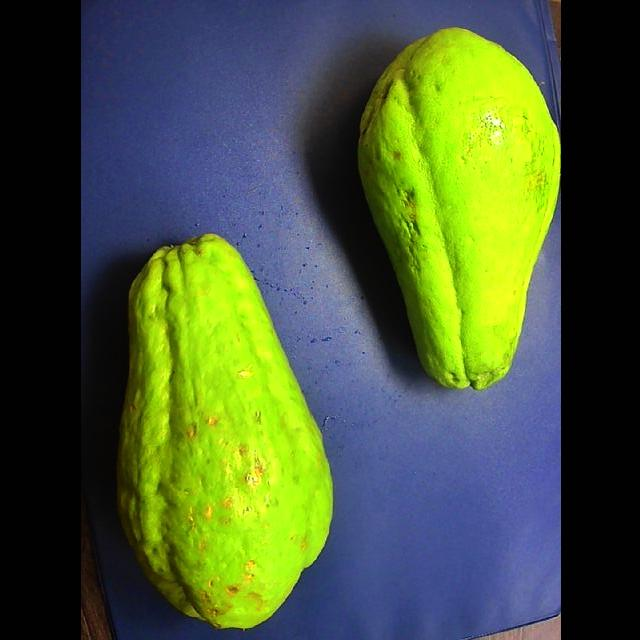chayote: (117, 234, 332, 628), (357, 28, 560, 389)
